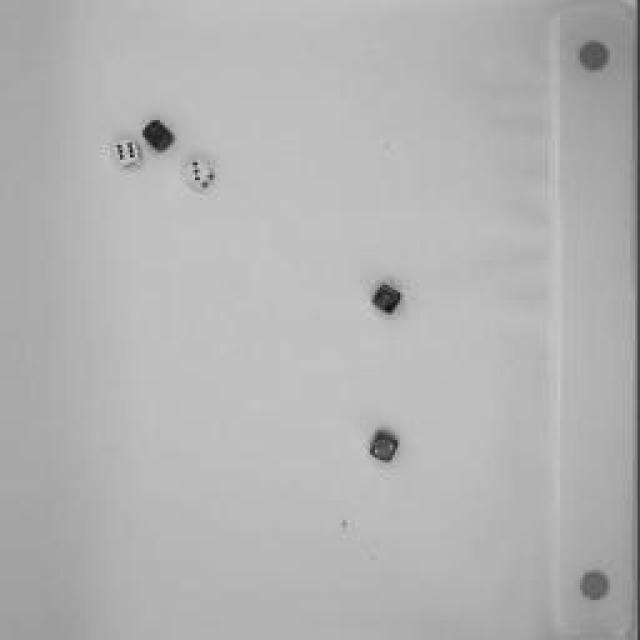dice_2: (370, 430, 405, 462), (142, 120, 178, 150)
dice_3: (185, 161, 215, 189)
dice_4: (374, 285, 404, 317)
dice_6: (111, 138, 144, 168)
